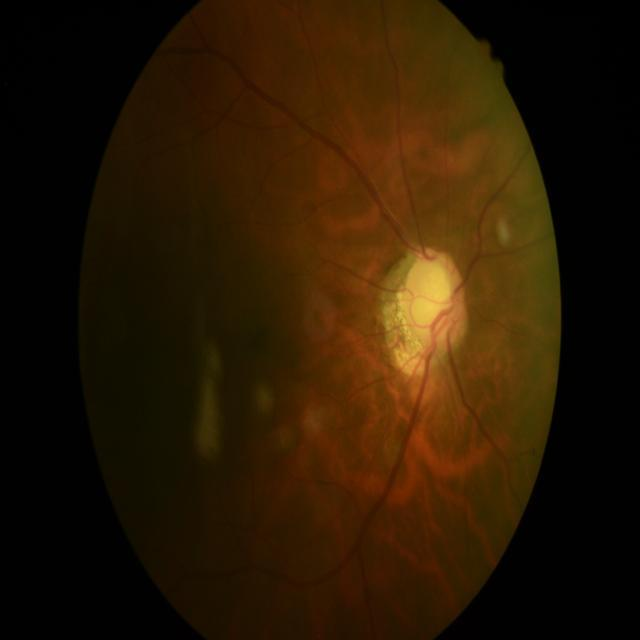cup: (412, 261, 454, 341)
disk: (399, 248, 469, 352)
